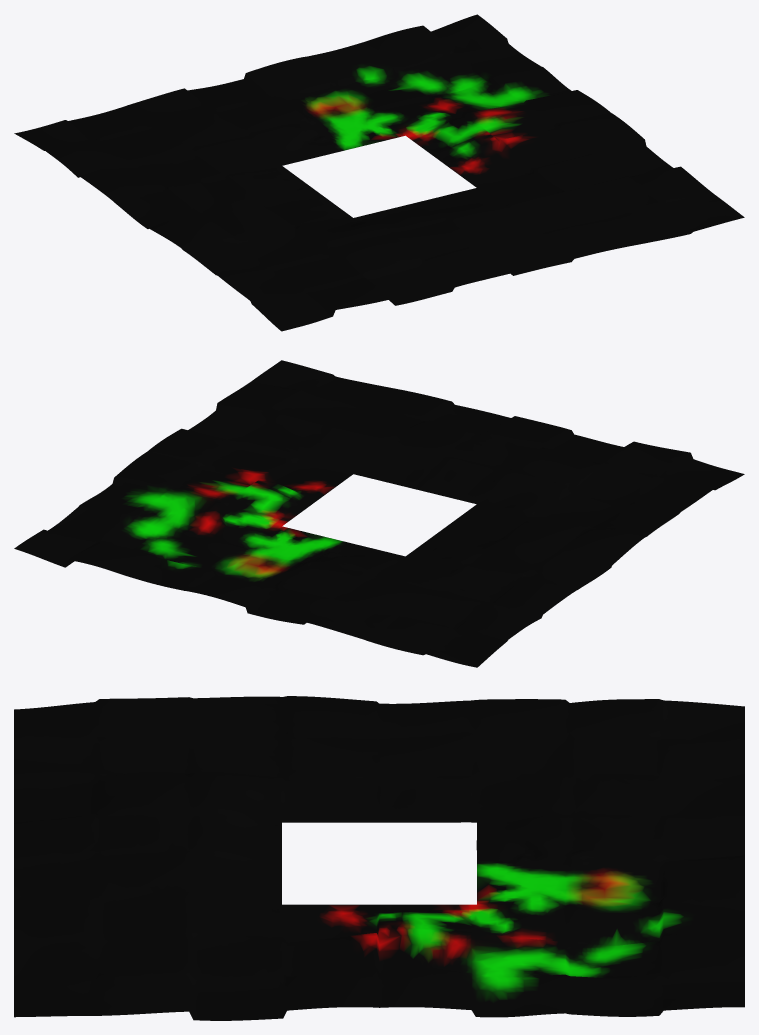
The model's file is floor_sm.fbx.
3 renders of one model, top to bottom at view 1: azimuth 30°, elevation 25°; view 2: azimuth 150°, elevation 25°; view 3: azimuth 270°, elevation 25°, orthographic. The views are drawn at different scales.
Parts seen in each view (by area): view 1: terrain_outside; view 2: terrain_outside; view 3: terrain_outside.
Part boxes in pixels (box(x1,y1,x2,y2)): terrain_outside: box(14, 14, 744, 331); terrain_outside: box(14, 360, 744, 667); terrain_outside: box(14, 696, 744, 1020).
Bounding box in the file's own units: 7509 × 251 × 7509.
